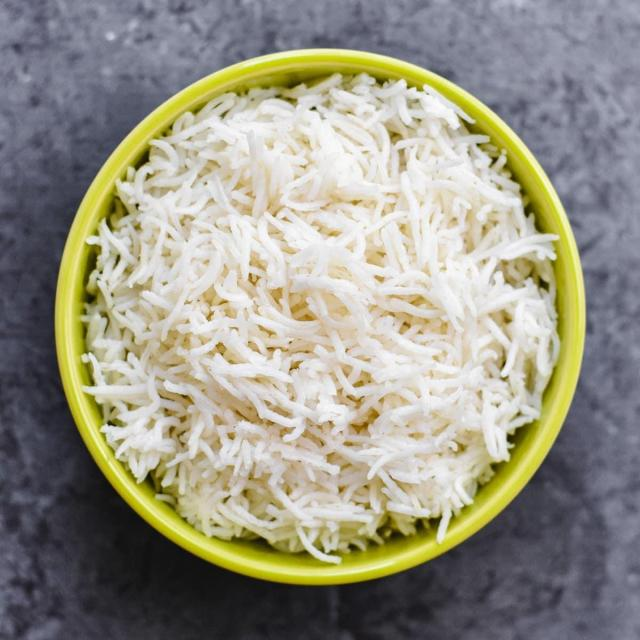rice: (89, 80, 556, 551)
